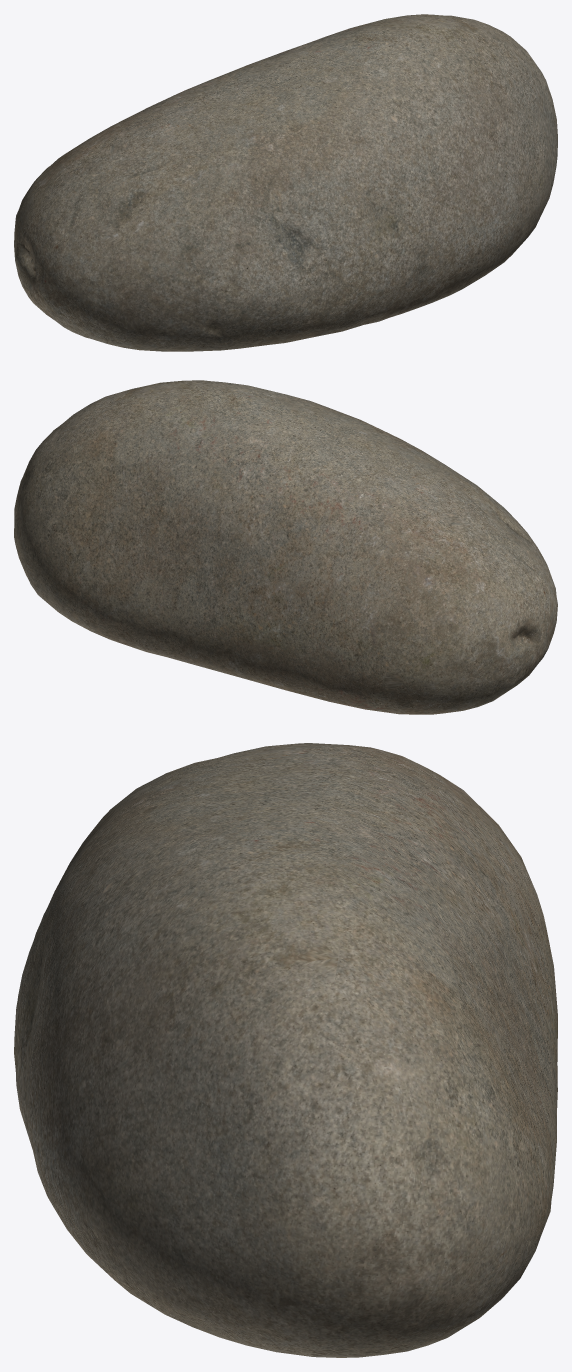
Rendered from SM_whhmaao_tier_2.gltf.
The picture shows the model from 3 angles, top to bottom: view 1: azimuth 30°, elevation 25°; view 2: azimuth 150°, elevation 25°; view 3: azimuth 270°, elevation 25°; orthographic projection. The views are drawn at different scales.
Parts seen in each view (by area): view 1: whhmaao_LOD2_TIER2_000; view 2: whhmaao_LOD2_TIER2_000; view 3: whhmaao_LOD2_TIER2_000.
Part boxes in pixels (left/top/right/bottom): whhmaao_LOD2_TIER2_000: left=14, top=14, right=557, bottom=351; whhmaao_LOD2_TIER2_000: left=14, top=380, right=557, bottom=714; whhmaao_LOD2_TIER2_000: left=14, top=743, right=557, bottom=1357.
Size of the model in its own units: 0.2946 by 0.1328 by 0.1531.
1 material, 1 textured.
